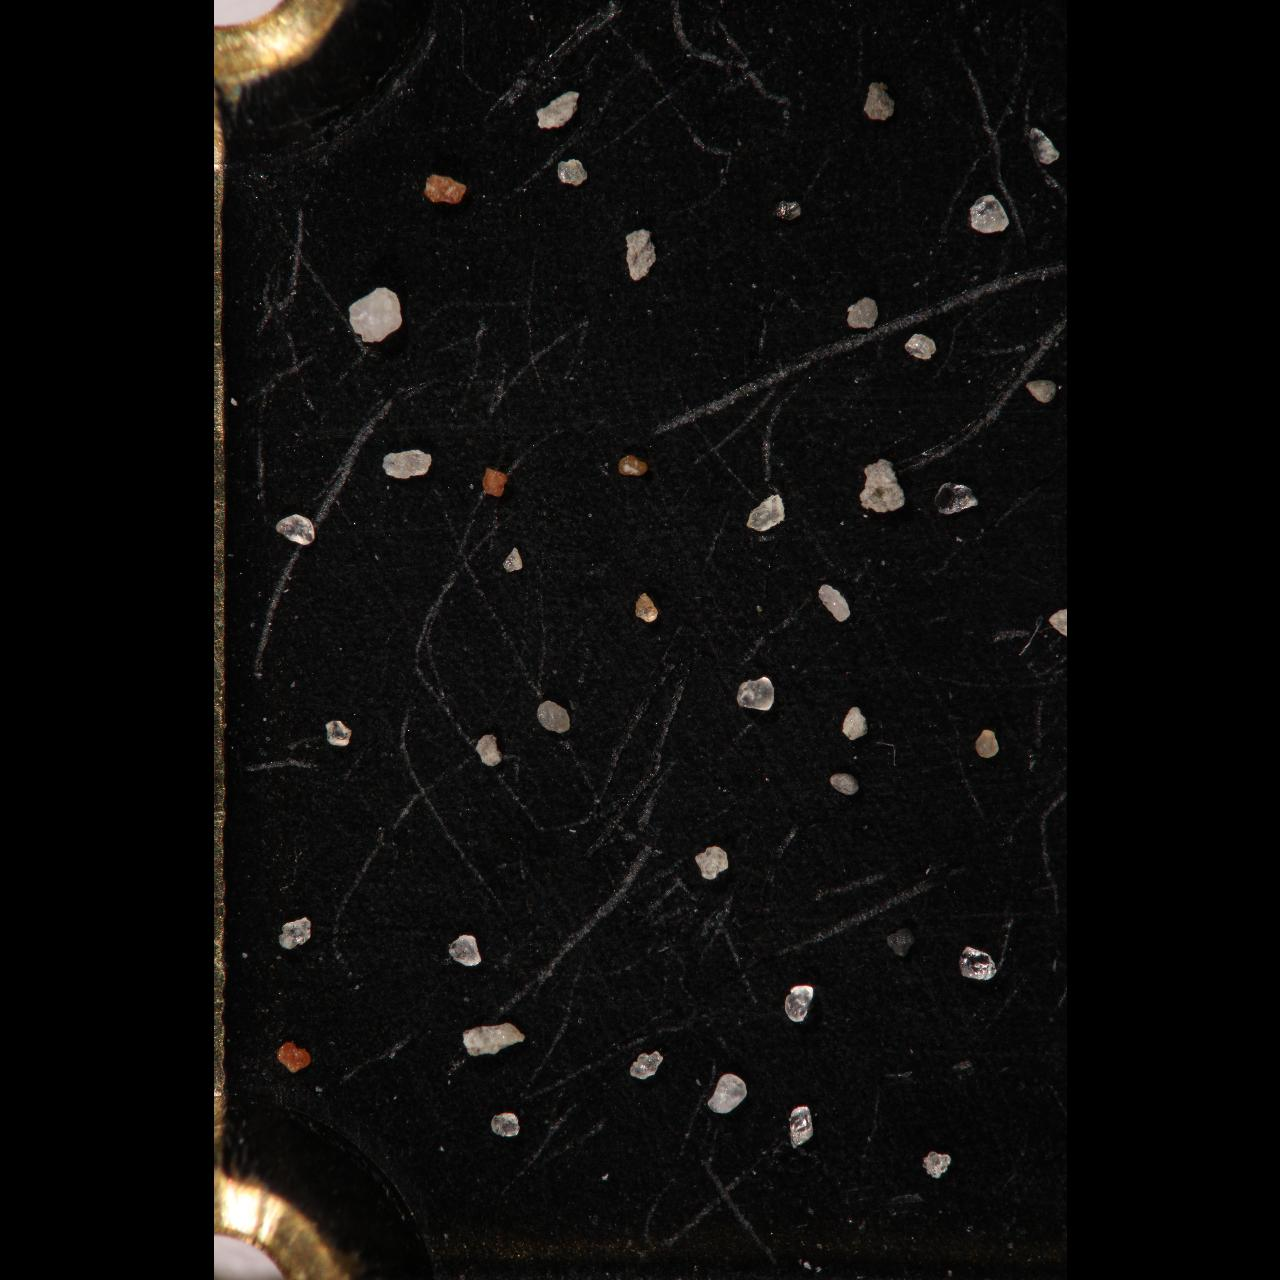Sediment: (348, 282, 402, 345), (858, 456, 906, 516), (459, 1021, 529, 1057), (704, 1070, 749, 1117), (535, 88, 580, 132), (622, 227, 658, 280), (744, 491, 787, 535), (381, 449, 435, 482), (933, 481, 979, 518), (969, 192, 1009, 234), (956, 944, 999, 982), (273, 510, 314, 549), (422, 172, 468, 206), (735, 675, 775, 713), (816, 581, 852, 622), (862, 79, 897, 121), (694, 844, 730, 883), (445, 932, 482, 971), (275, 1037, 313, 1073), (536, 699, 570, 737), (1027, 125, 1060, 165), (783, 983, 816, 1023), (788, 1103, 815, 1151), (847, 293, 880, 331), (627, 1049, 665, 1082), (903, 329, 937, 362), (277, 917, 311, 949), (920, 1148, 953, 1180), (475, 731, 502, 769), (1024, 377, 1058, 407), (840, 704, 869, 740), (556, 157, 588, 186), (828, 769, 862, 797), (489, 1110, 519, 1139), (482, 467, 508, 501), (617, 452, 647, 479), (632, 591, 659, 621), (974, 728, 999, 761), (325, 719, 352, 748), (775, 197, 802, 223), (501, 546, 523, 573)
